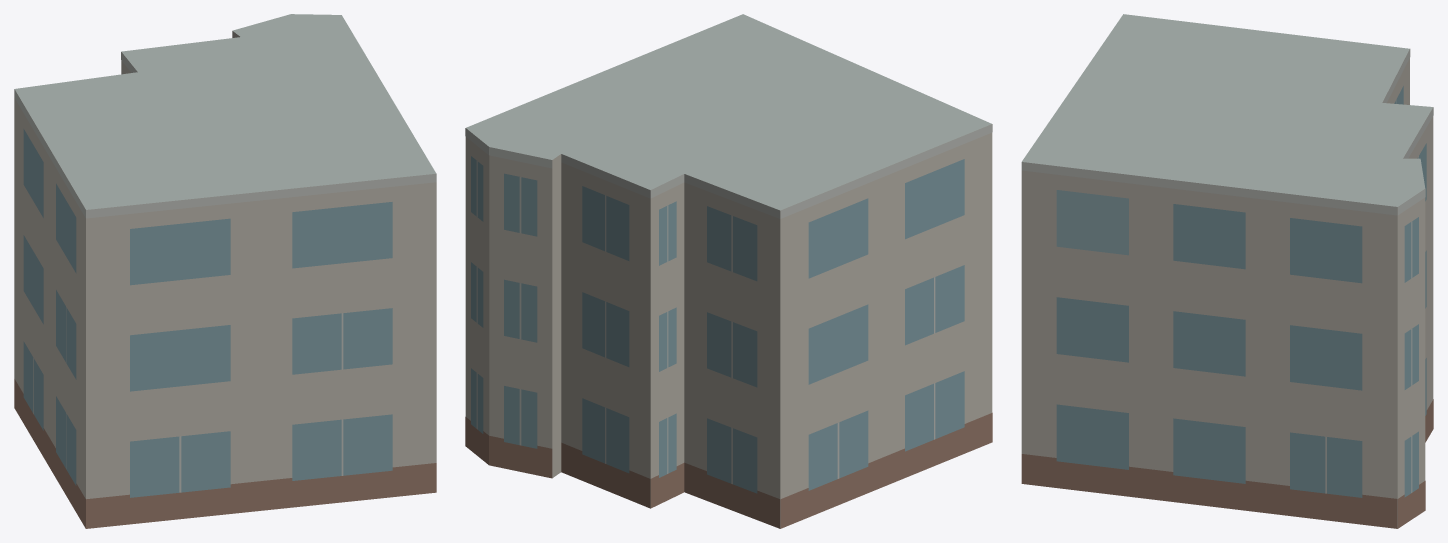
File: survey-upis-32955587.glb
The picture shows the model from 3 angles, left to right: view 1: azimuth 30°, elevation 25°; view 2: azimuth 150°, elevation 25°; view 3: azimuth 270°, elevation 25°; orthographic projection.
Visible parts, largest first — view 1: survey-upis-32955587.tmp; view 2: survey-upis-32955587.tmp; view 3: survey-upis-32955587.tmp.
Boxes of the visible parts, x1,y1,x2,y2 form: survey-upis-32955587.tmp: (14, 14, 436, 528); survey-upis-32955587.tmp: (465, 14, 992, 528); survey-upis-32955587.tmp: (1021, 14, 1433, 528).
Bounding box in the file's own units: 11.77 × 9.15 × 10.62.
